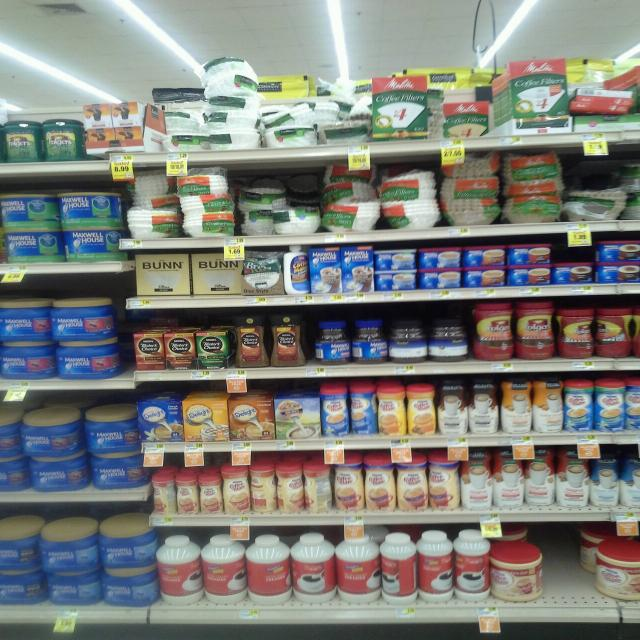void: (542, 522, 568, 622), (570, 522, 591, 622)
